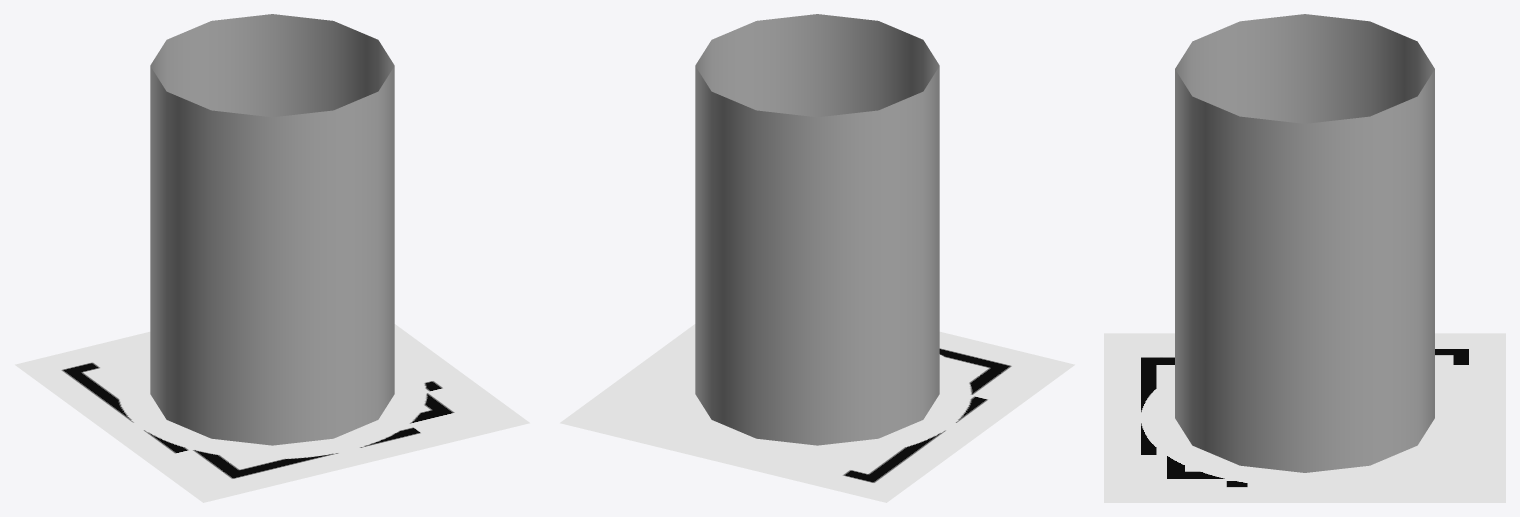
The model's file is Eff_Acolyte_Heal_Cast_1.FBX.
The picture shows the model from 3 angles, left to right: view 1: azimuth 30°, elevation 25°; view 2: azimuth 150°, elevation 25°; view 3: azimuth 270°, elevation 25°; orthographic projection. The views are drawn at different scales.
Parts seen in each view (by area): view 1: Eff_cylinder01, Eff_ ground01; view 2: Eff_cylinder01, Eff_ ground01; view 3: Eff_cylinder01, Eff_ ground01.
Part boxes in pixels (x1,y1,x2,y2): Eff_cylinder01: (150,14,394,445); Eff_ ground01: (15,324,529,502); Eff_cylinder01: (695,14,939,445); Eff_ ground01: (560,324,1074,502); Eff_cylinder01: (1175,14,1434,472); Eff_ ground01: (1104,333,1505,502).
Bounding box in the file's own units: 2.78 × 2.67 × 2.78.
